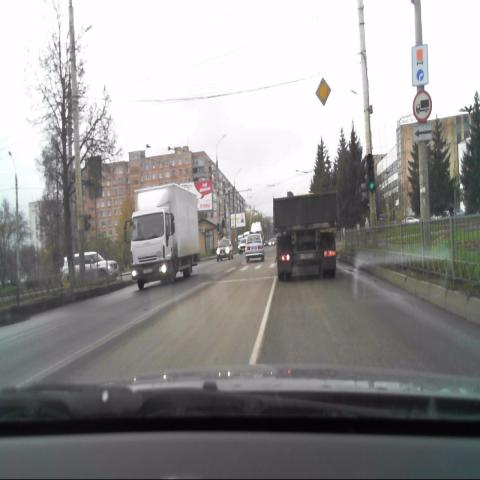8_3_2: (413, 125, 433, 141)
